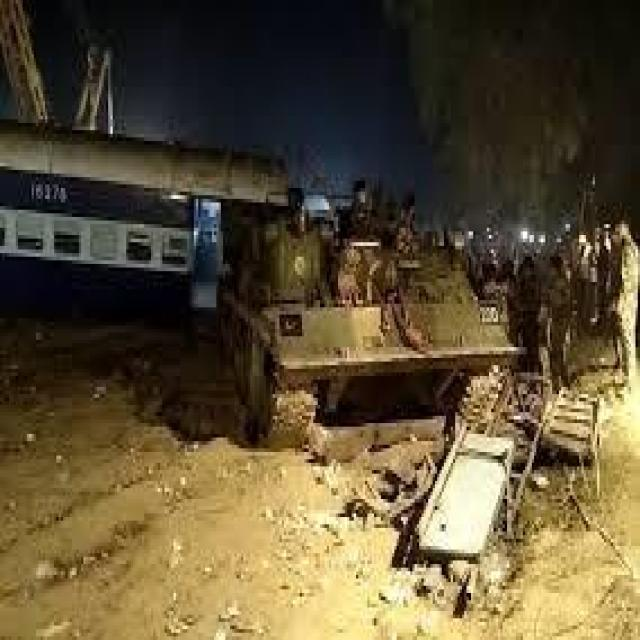Tanks: (217, 204, 528, 447)
